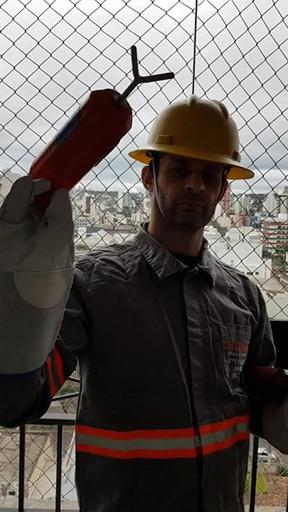Detector_Tensao_Contato: (26, 45, 176, 198)
